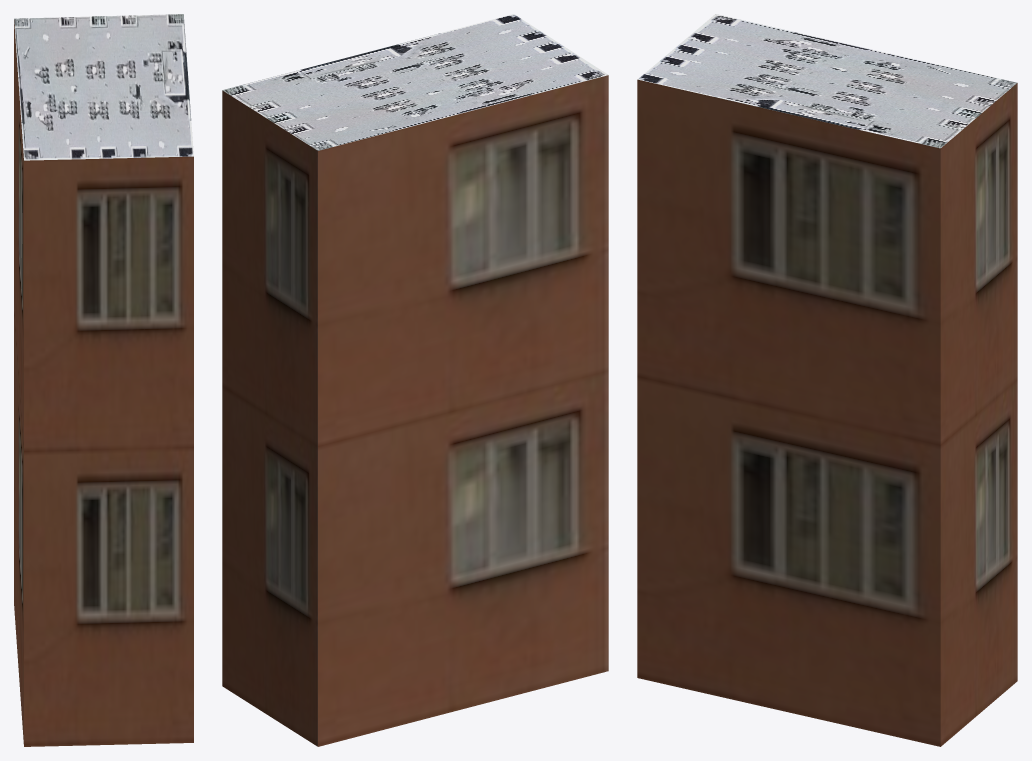
Rendered from ResTex__1045.fbx.
3 renders of one model, left to right at view 1: azimuth 30°, elevation 25°; view 2: azimuth 150°, elevation 25°; view 3: azimuth 270°, elevation 25°, orthographic. The views are drawn at different scales.
Parts seen in each view (by area): view 1: CityEngineMaterial_20_m, CityEngineMaterial_8_m; view 2: CityEngineMaterial_20_m, CityEngineMaterial_8_m; view 3: CityEngineMaterial_20_m, CityEngineMaterial_8_m.
Boxes of the visible parts, x1,y1,x2,y2 form: CityEngineMaterial_20_m: (14,20,193,746); CityEngineMaterial_8_m: (14,14,193,160); CityEngineMaterial_20_m: (222,75,608,746); CityEngineMaterial_8_m: (222,14,608,150); CityEngineMaterial_20_m: (637,79,1017,746); CityEngineMaterial_8_m: (637,14,1017,148).
Bounding box in the file's own units: 2.89 × 6 × 3.45.
Materials: 2 (2 with a texture image).
